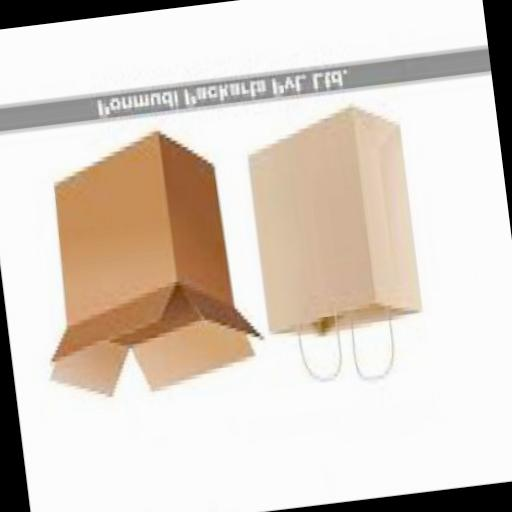cardboard: (19, 131, 265, 409)
